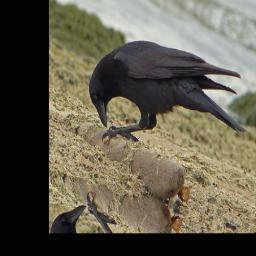Crow: (76, 8, 256, 206)
